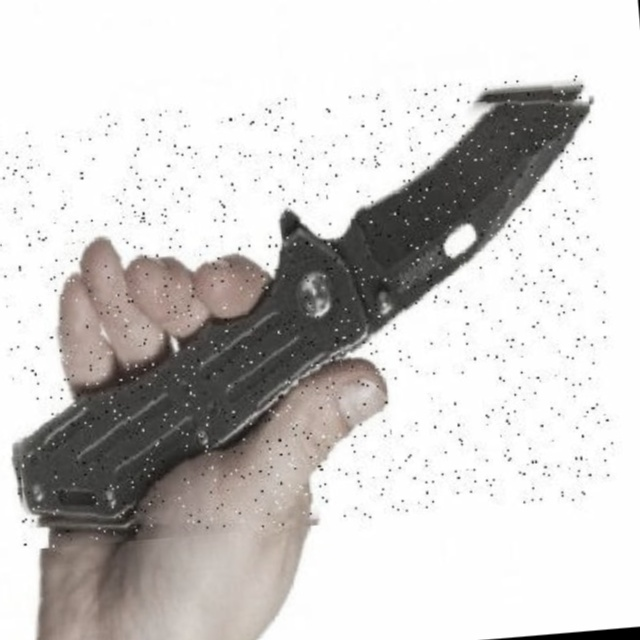Sharp-Object: (0, 73, 622, 549)
